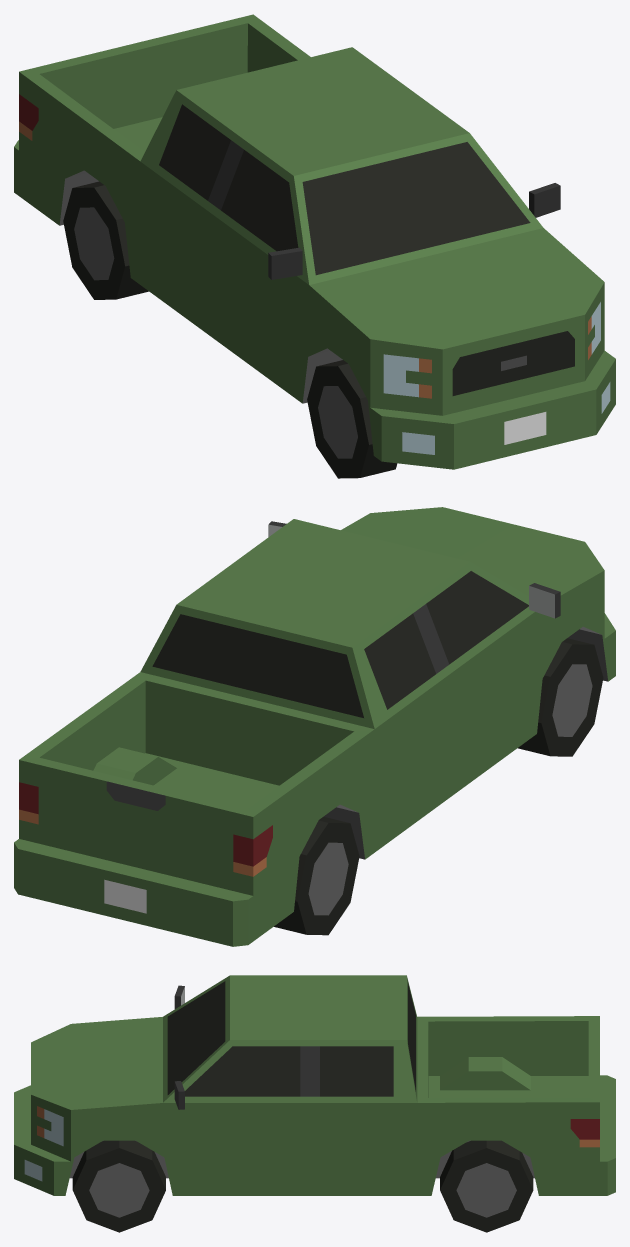
Rendered from Veh_Pickup_03_Green.obj.
The picture shows the model from 3 angles, top to bottom: view 1: azimuth 30°, elevation 25°; view 2: azimuth 150°, elevation 25°; view 3: azimuth 270°, elevation 25°; orthographic projection. The views are drawn at different scales.
Size of the model in its own units: 1.37 by 1.1 by 3.29.
